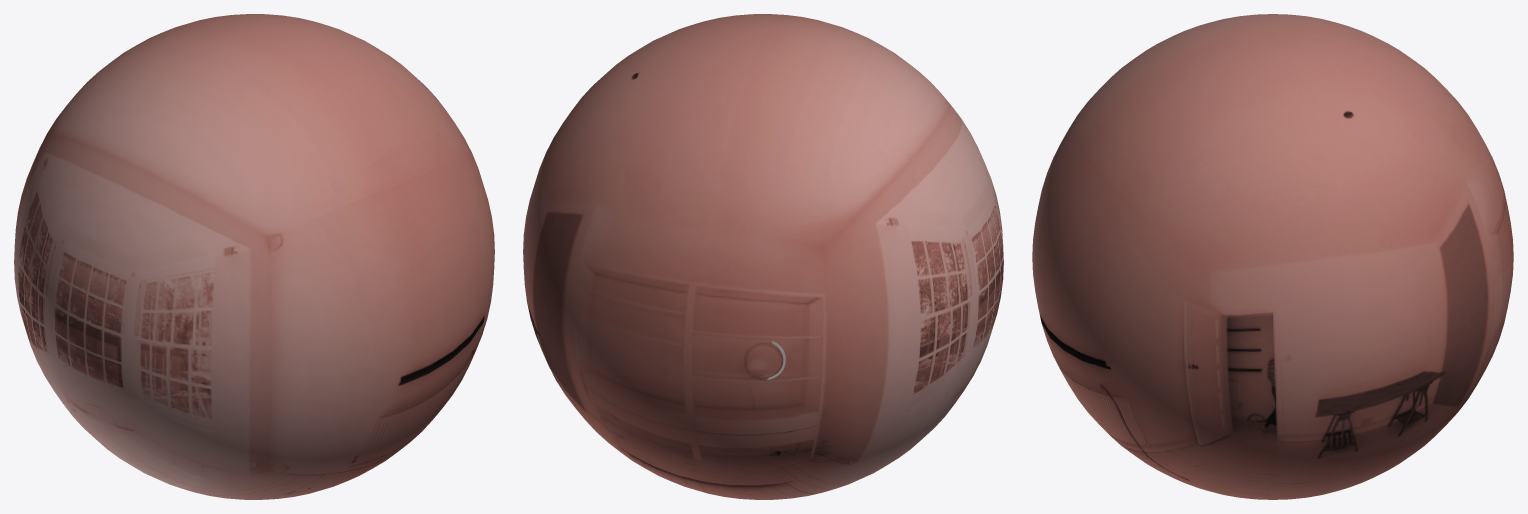
File: livingroom.dae
The picture shows the model from 3 angles, left to right: view 1: azimuth 30°, elevation 25°; view 2: azimuth 150°, elevation 25°; view 3: azimuth 270°, elevation 25°; orthographic projection.
Parts seen in each view (by area): view 1: ENV; view 2: ENV; view 3: ENV.
Part boxes in pixels (left/top/right/bottom): ENV: left=14, top=14, right=494, bottom=499; ENV: left=523, top=14, right=1003, bottom=499; ENV: left=1032, top=14, right=1513, bottom=499.
Size of the model in its own units: 1.18 by 1.2 by 1.18.
